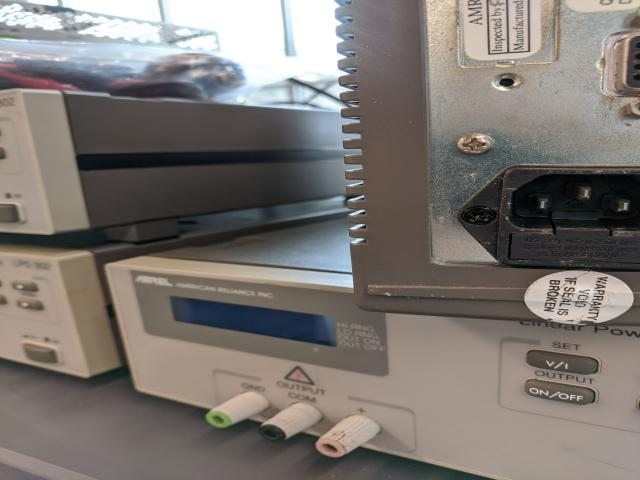CRS: (452, 133, 496, 156), (463, 207, 494, 226)
